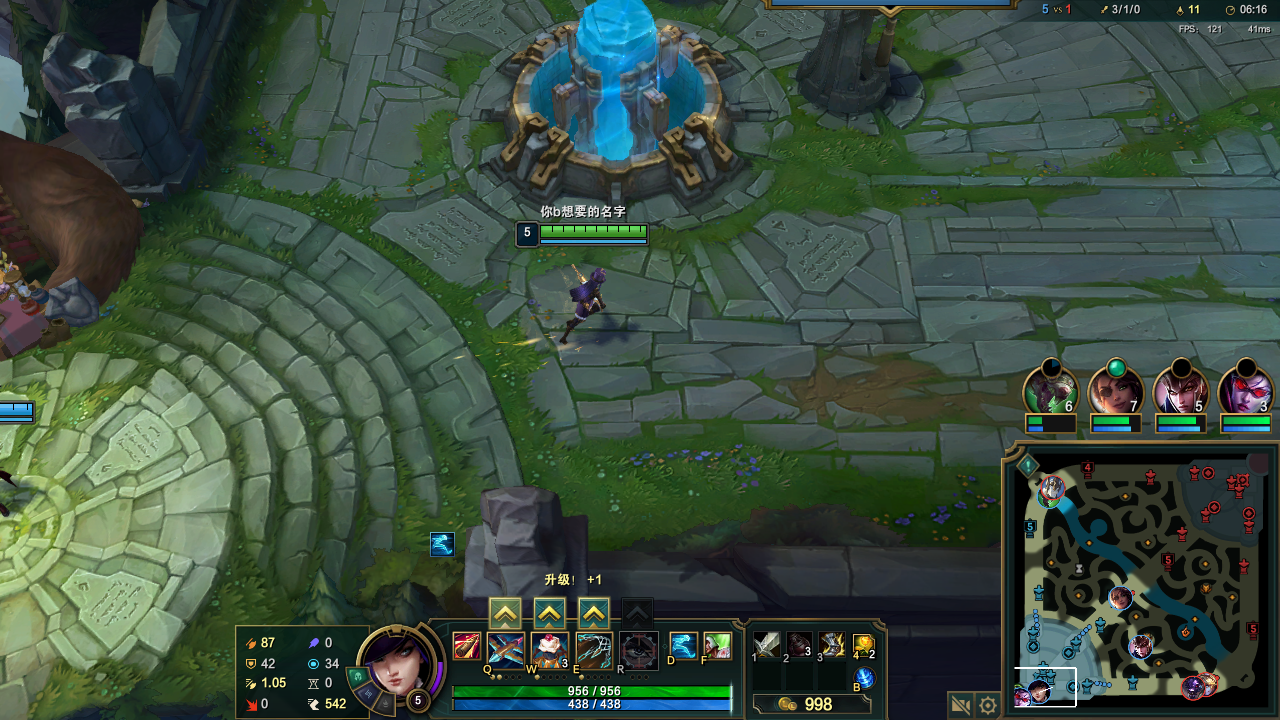SJ: (581, 601, 603, 624), (540, 605, 560, 626)
Tuijianshengji: (492, 599, 518, 626)
WFSJ: (484, 26, 741, 191)
